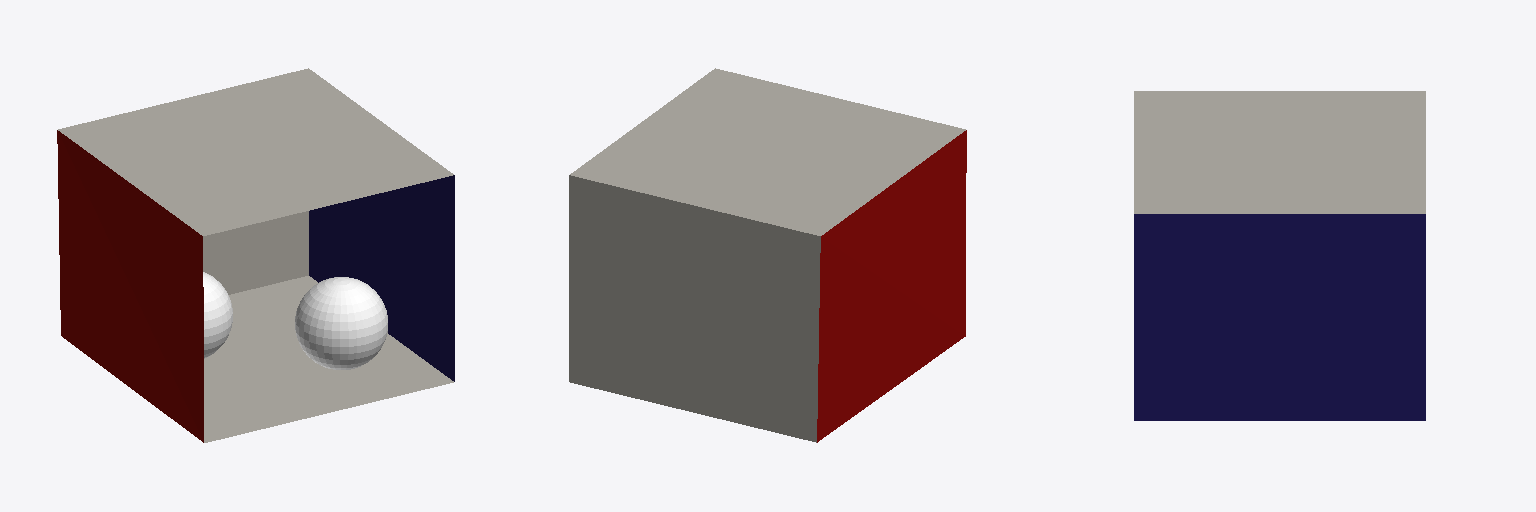
Rendered from CornellBox-Sphere-milestone.obj.
3 views of the same model, side by side, from view 1: azimuth 30°, elevation 25°; view 2: azimuth 150°, elevation 25°; view 3: azimuth 270°, elevation 25° (orthographic).
Parts seen in each view (by area): view 1: ceiling, leftWall, floor, rightWall, rightSphere, backWall, leftSphere; view 2: backWall, ceiling, leftWall; view 3: rightWall, ceiling.
Boxes of the visible parts, <box> form: ceiling: <box>58,68,453,235</box>; leftWall: <box>57,130,203,442</box>; floor: <box>204,276,453,442</box>; rightWall: <box>309,175,454,381</box>; rightSphere: <box>295,277,387,369</box>; backWall: <box>203,211,308,294</box>; leftSphere: <box>203,272,232,358</box>; backWall: <box>569,175,820,442</box>; ceiling: <box>570,68,965,235</box>; leftWall: <box>817,130,966,442</box>; rightWall: <box>1134,214,1425,420</box>; ceiling: <box>1134,91,1425,213</box>.
Bounding box in the file's own units: 2.02 × 1.59 × 2.03.